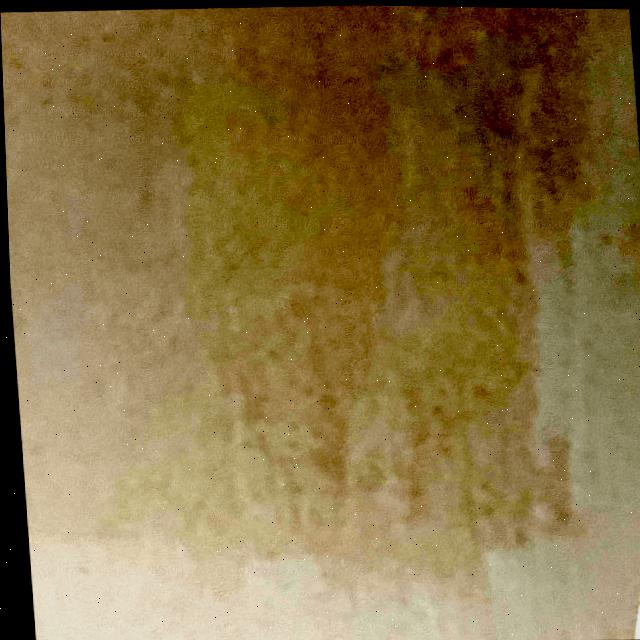Nitrite: (633, 610, 640, 637)
